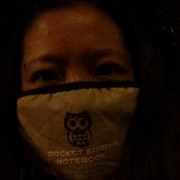OK: (13, 42, 139, 168)
